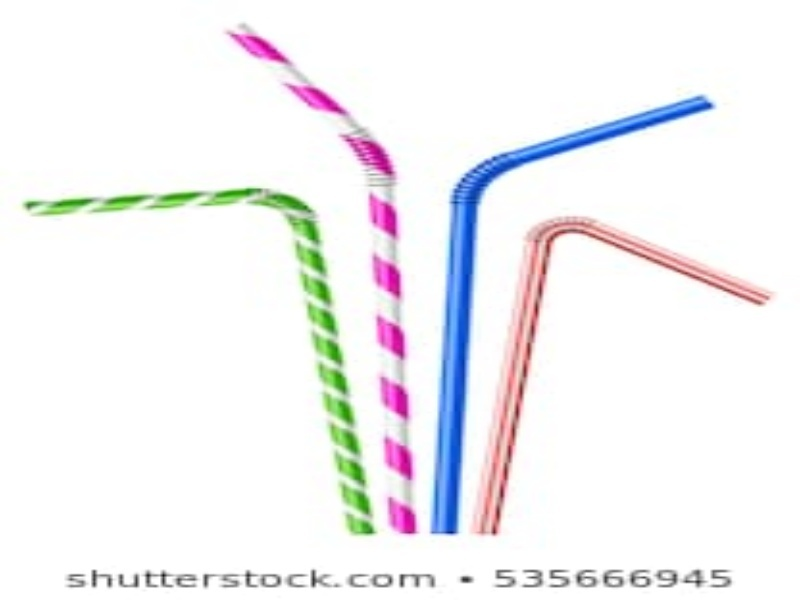straw: (430, 92, 715, 534), (23, 187, 372, 536), (221, 19, 421, 535), (477, 216, 778, 533)
